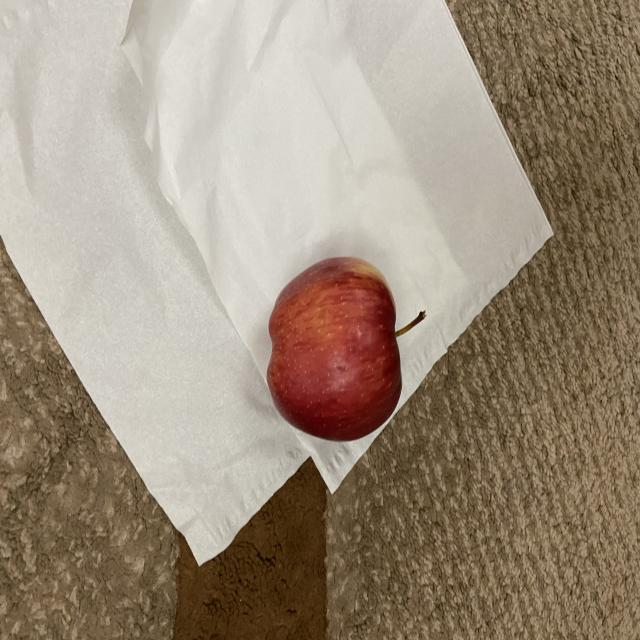apple: (264, 254, 428, 443)
